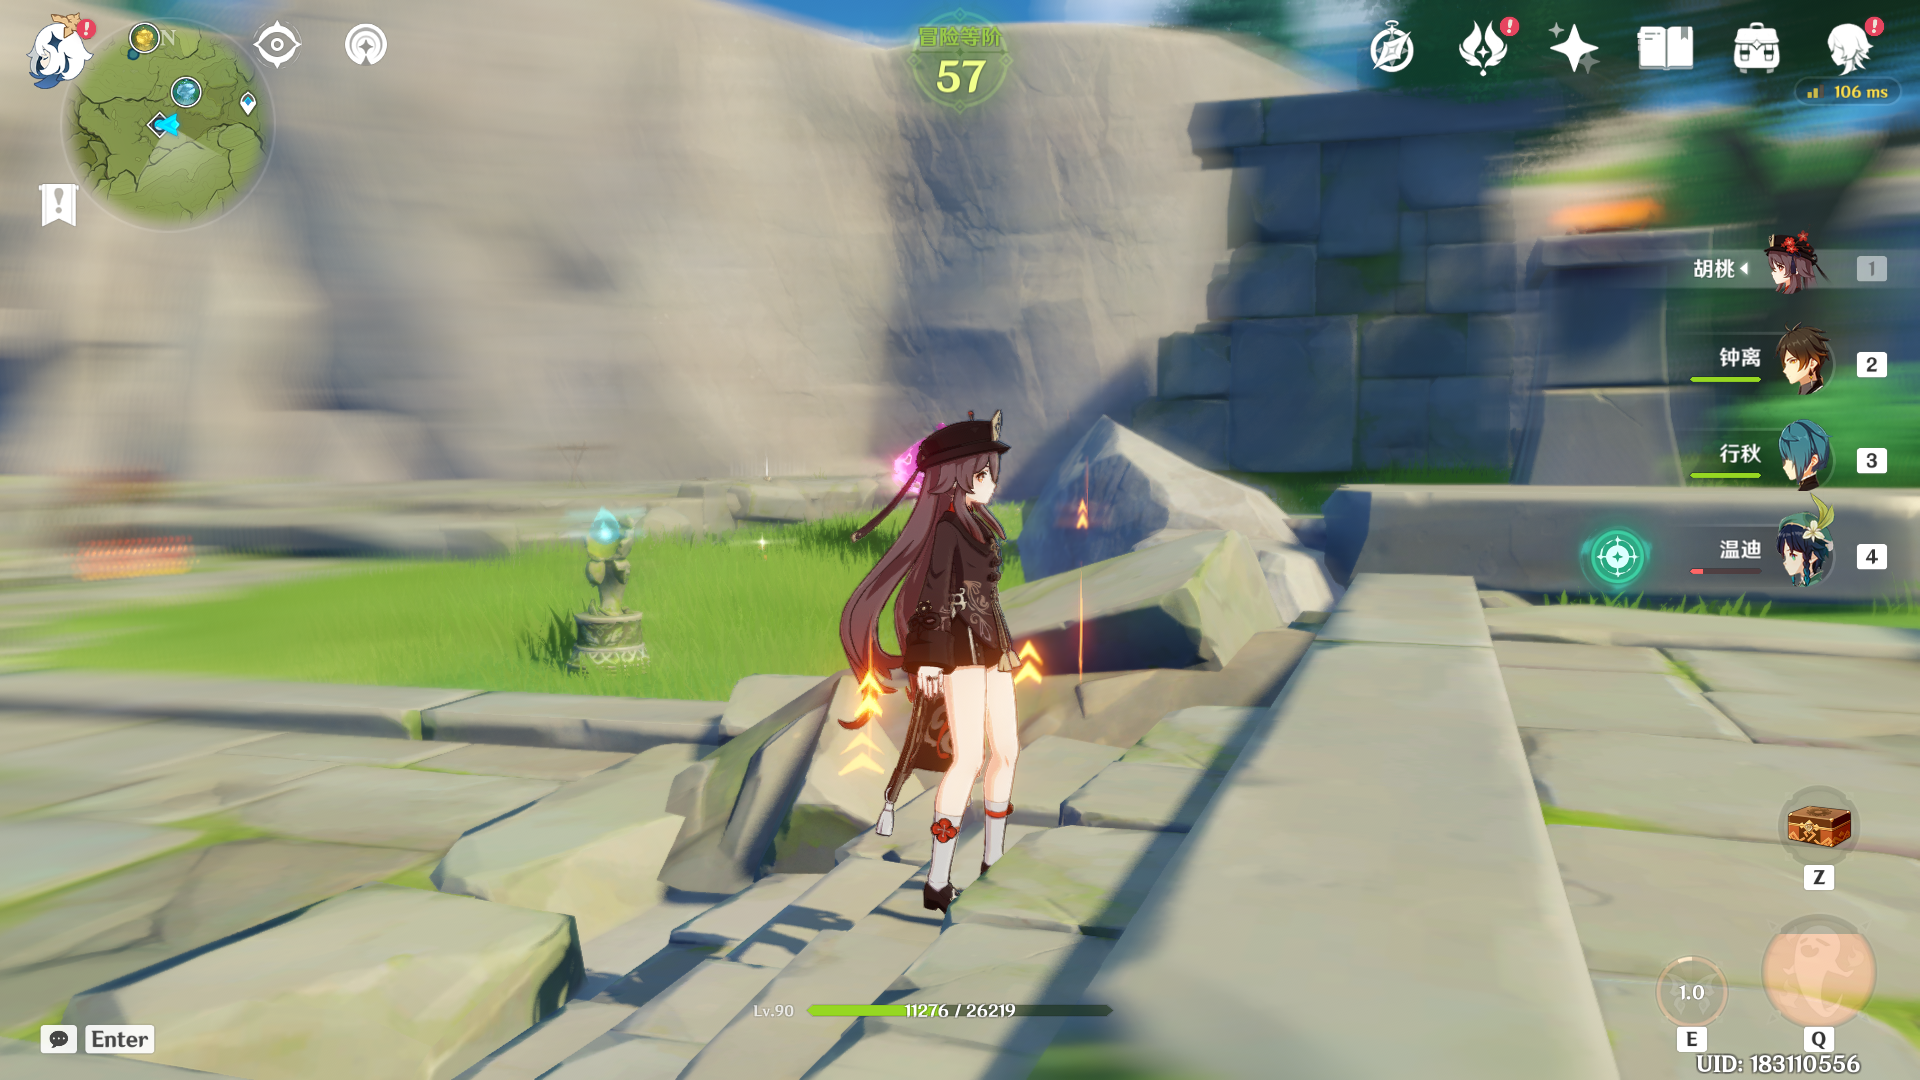character: (808, 392, 1058, 938)
